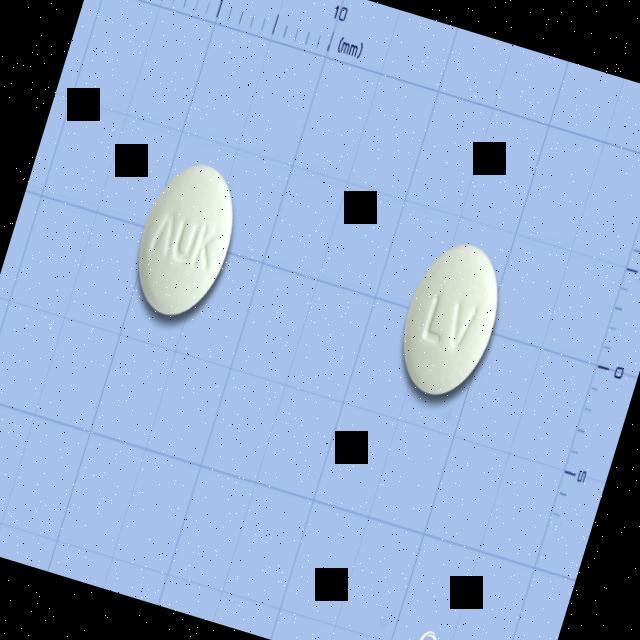Levox: (121, 151, 251, 326), (386, 232, 514, 405)
